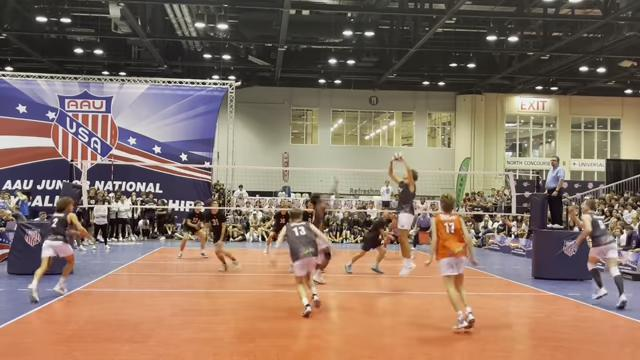alzata: (384, 152, 421, 280)
